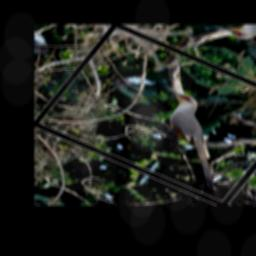Cuckoo: (114, 85, 256, 192)
